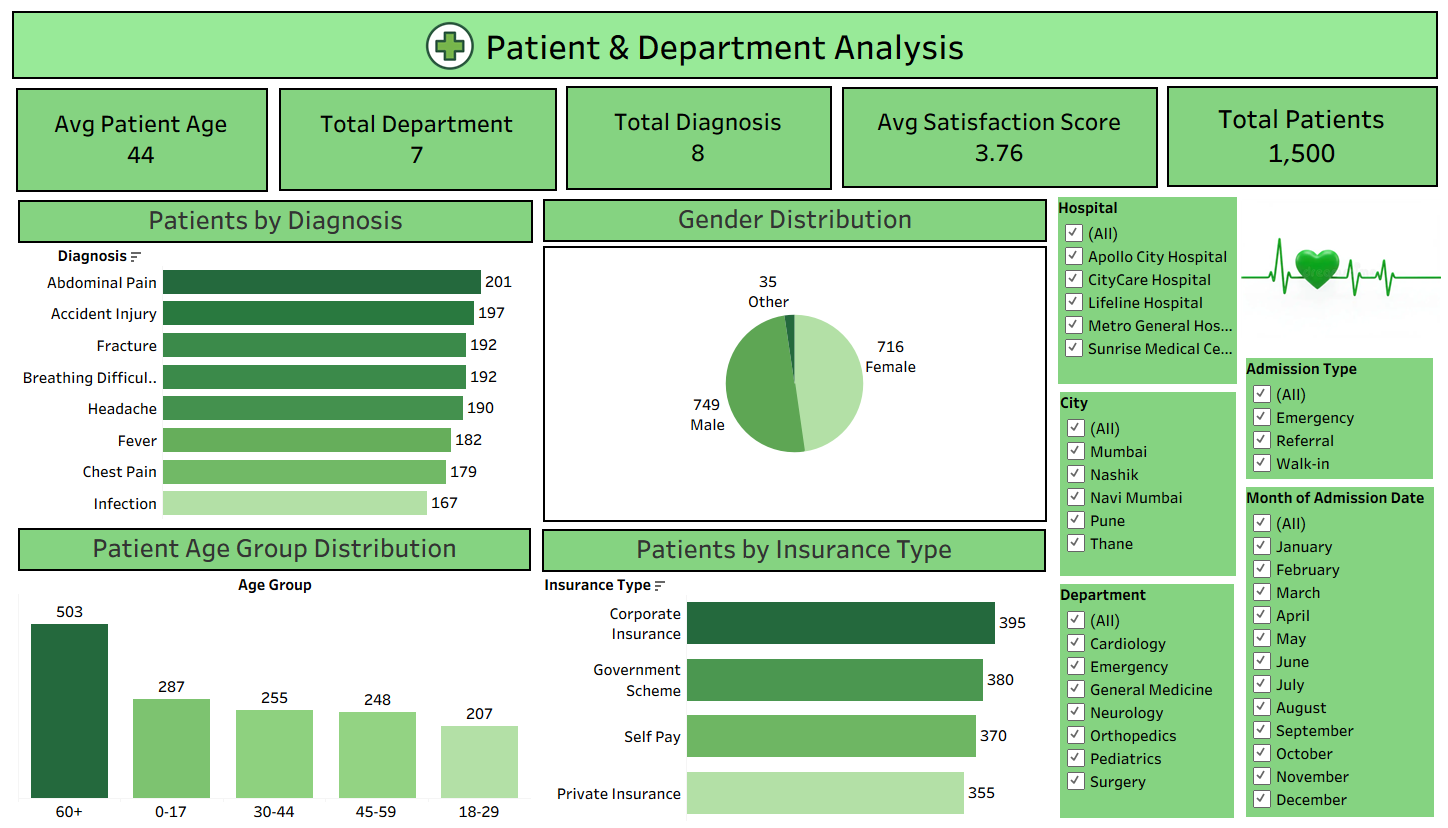

The page's visual inventory and layout, read from the dashboard file:
{"tool":"tableau","page":{"name":"Patient & Department Analysis","canvas":[1450,830],"ordinal":2},"visuals":[{"type":"title","box":[8,8,1434,76]},{"type":"image","param":"C:/Users/SONALI/Downloads/pkl.webp","box":[411,8,118,77]},{"type":"worksheet","title":"kpi total patients (2)","mark":"Automatic","box":[1166,36,272,152]},{"type":"worksheet","title":"total diagonis","mark":"Automatic","box":[565,71,267,120]},{"type":"worksheet","title":"Avg satifaction score","mark":"Automatic","box":[841,72,317,117]},{"type":"worksheet","title":"avg patient age","mark":"Automatic","box":[15,73,253,120]},{"type":"worksheet","title":"total dept","mark":"Automatic","box":[278,73,279,119]},{"type":"image","param":"C:/Users/SONALI/Downloads/green heartbeat.webp","box":[1241,185,200,171]},{"type":"filter","title":"Avg satifaction score","param":"[federated.129wrcv0q0yms616yjgnn19gktfg].[none:Hospital:nk]","box":[1058,198,179,187]},{"type":"worksheet","title":"Gender Distribution","mark":"Pie","box":[542,200,505,323]},{"type":"worksheet","title":"2- Patients by Diagnosis","mark":"Bar","rows":["Diagnosis"],"cols":["Patient_ID"],"box":[18,201,515,319]},{"type":"filter","title":"Avg satifaction score","param":"[federated.129wrcv0q0yms616yjgnn19gktfg].[none:Admission_Type:nk]","box":[1246,359,187,121]},{"type":"filter","title":"Avg satifaction score","param":"[federated.129wrcv0q0yms616yjgnn19gktfg].[none:City:nk]","box":[1060,393,176,184]},{"type":"filter","title":"Avg satifaction score","param":"[federated.129wrcv0q0yms616yjgnn19gktfg].[mn:Admission_Date:ok]","box":[1246,488,188,330]},{"type":"worksheet","title":"Patient Age Group Distribution","mark":"Automatic","rows":["Patient_ID"],"cols":["Calculation_0266408720912384"],"box":[18,529,513,295]},{"type":"worksheet","title":"Patients by Insurance Type","mark":"Automatic","rows":["Insurance_Type"],"cols":["Patient_ID"],"box":[542,530,504,292]},{"type":"filter","title":"Avg satifaction score","param":"[federated.129wrcv0q0yms616yjgnn19gktfg].[none:Department:nk]","box":[1060,585,174,234]}]}

Visuals, with their boxes in screenshot pixels (x1, y1, x2, y2), scaled from the page's 1450x830 canvas onto the 1448x828 screenshot:
title: bbox=(8, 8, 1440, 84)
image: bbox=(410, 8, 528, 85)
"kpi total patients (2)" worksheet: bbox=(1164, 36, 1436, 188)
"total diagonis" worksheet: bbox=(564, 71, 831, 191)
"Avg satifaction score" worksheet: bbox=(840, 72, 1156, 189)
"avg patient age" worksheet: bbox=(15, 73, 268, 193)
"total dept" worksheet: bbox=(278, 73, 556, 192)
image: bbox=(1239, 185, 1439, 355)
"Avg satifaction score" filter: bbox=(1057, 198, 1235, 384)
"Gender Distribution" worksheet (Pie marks): bbox=(541, 200, 1046, 522)
"2- Patients by Diagnosis" worksheet (Bar marks): bbox=(18, 201, 532, 519)
"Avg satifaction score" filter: bbox=(1244, 358, 1431, 479)
"Avg satifaction score" filter: bbox=(1059, 392, 1234, 576)
"Avg satifaction score" filter: bbox=(1244, 487, 1432, 816)
"Patient Age Group Distribution" worksheet: bbox=(18, 528, 530, 822)
"Patients by Insurance Type" worksheet: bbox=(541, 529, 1045, 820)
"Avg satifaction score" filter: bbox=(1059, 584, 1232, 817)
